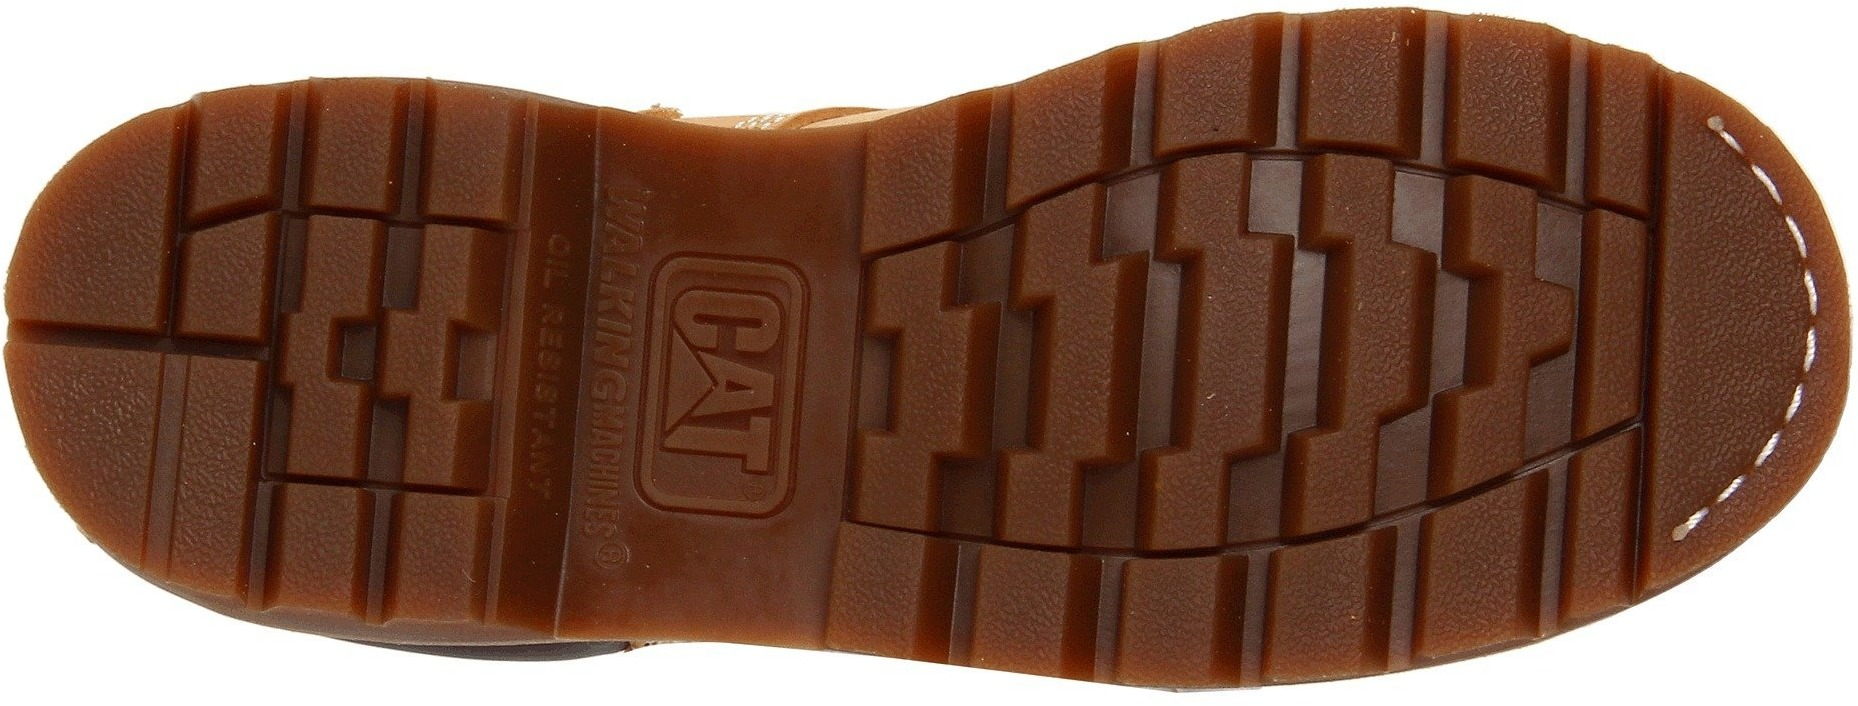chevron: (1128, 155, 1564, 556), (198, 203, 505, 500)
other: (1660, 255, 1790, 379)
quad: (833, 439, 1087, 670), (877, 63, 1095, 312)
text: (651, 281, 796, 428), (653, 354, 781, 479)
